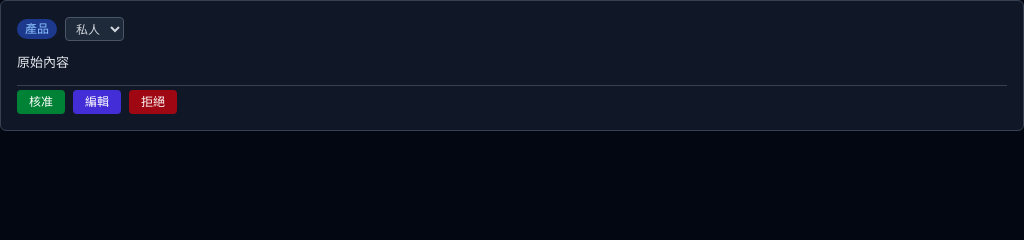
Test: CandidateFactRow — edit mode › clicking edit btn switches to edit mode with textarea
The width and height of the screenshot is (1024, 240).
Click the button with test id "candidate-fact-edit-btn" at (97, 102), box [73, 90, 121, 114]
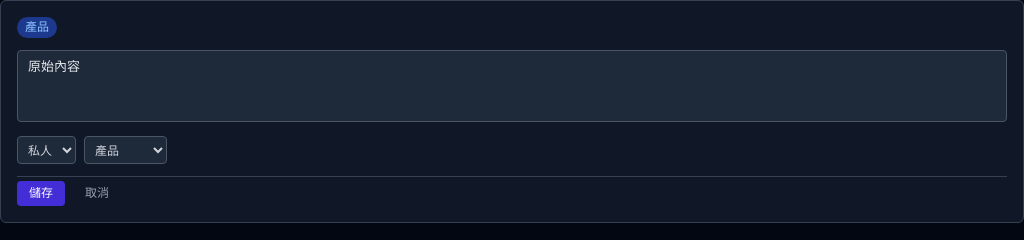
Check: the button with test id "candidate-fact-save-btn" is shown, box [17, 181, 65, 206]
Check: the button with test id "candidate-fact-cancel-btn" is shown, box [73, 181, 121, 206]
